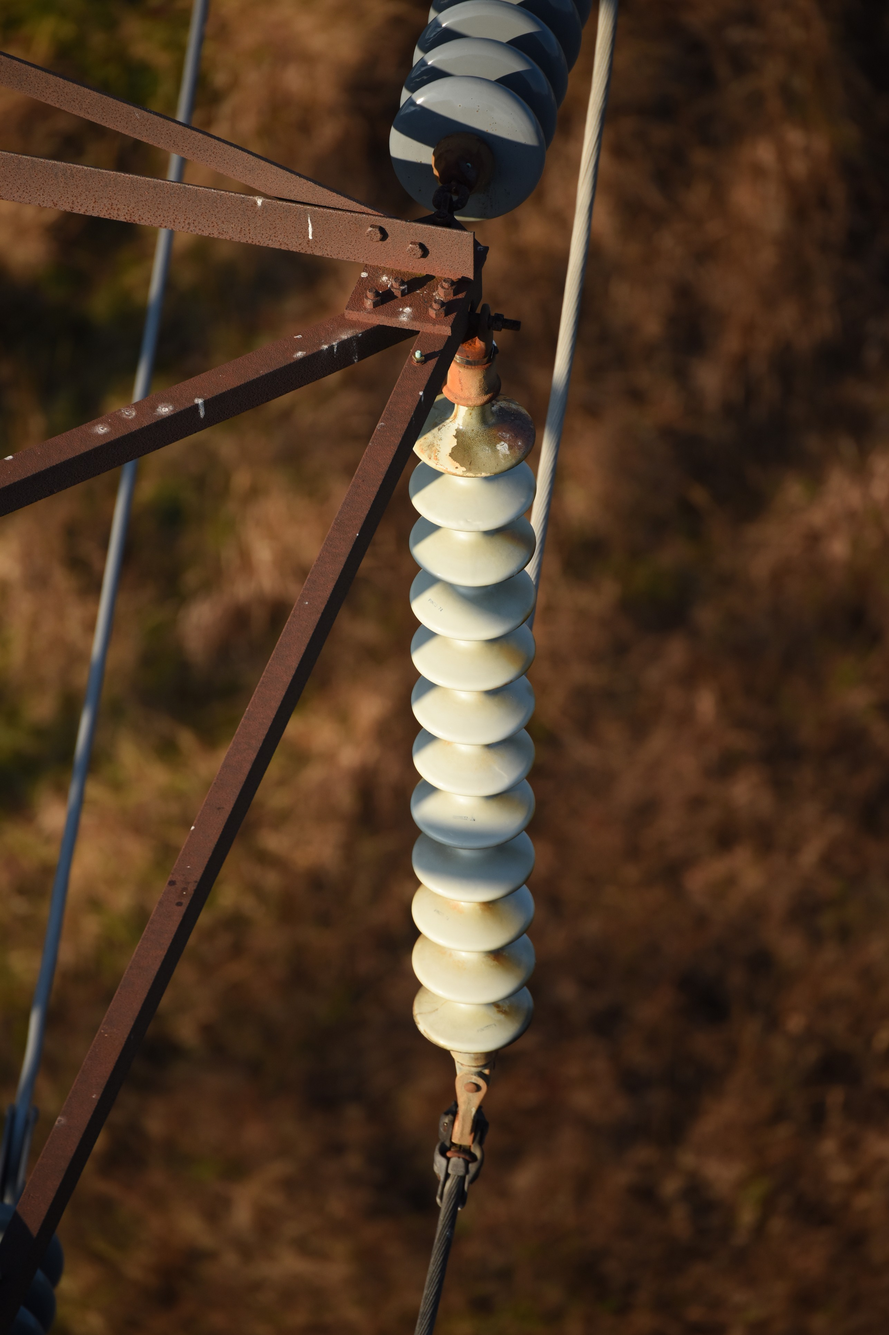Flashover: (450, 405, 532, 480)
insulator: (410, 383, 539, 1057), (388, 0, 591, 217)
